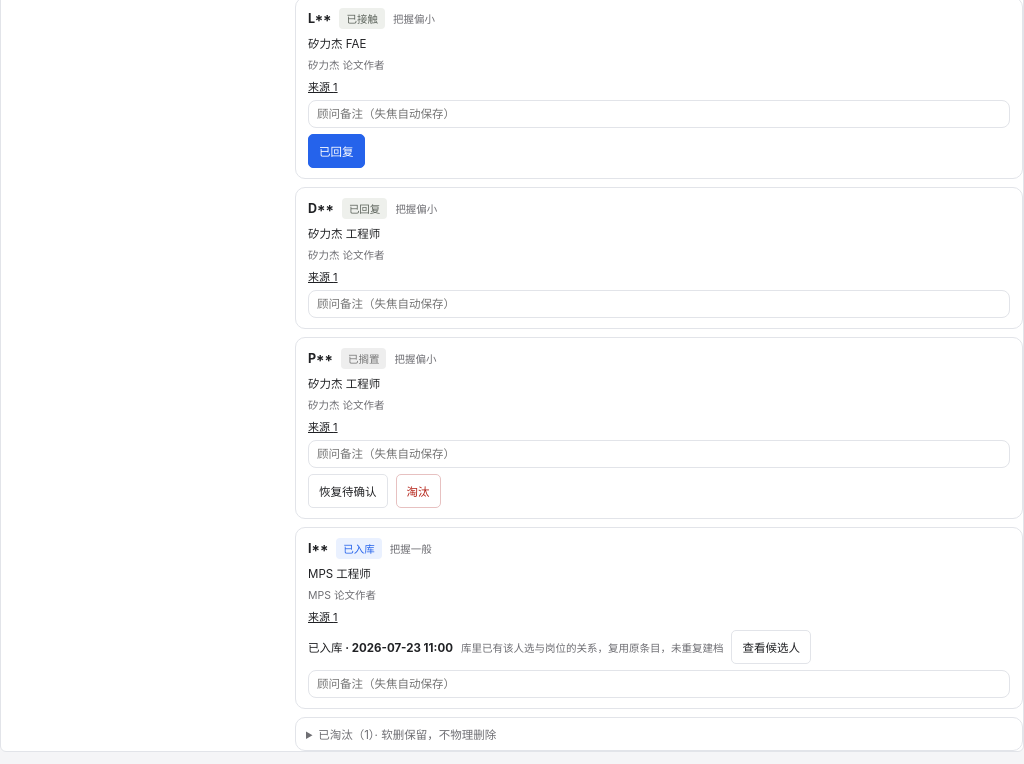
Test: Mapping 任务卡视图（MappingTaskCard） › 已淘汰人选折叠到底部（软删可见，默认收起）
(page scrolled)
expect the text "R**" is not shown: met
Note: 展开后可见且无动作按钮
Click the heading "已淘汰（1）· 软删保留，不物理删除" at (407, 735), box [318,728,496,742]
(page scrolled)
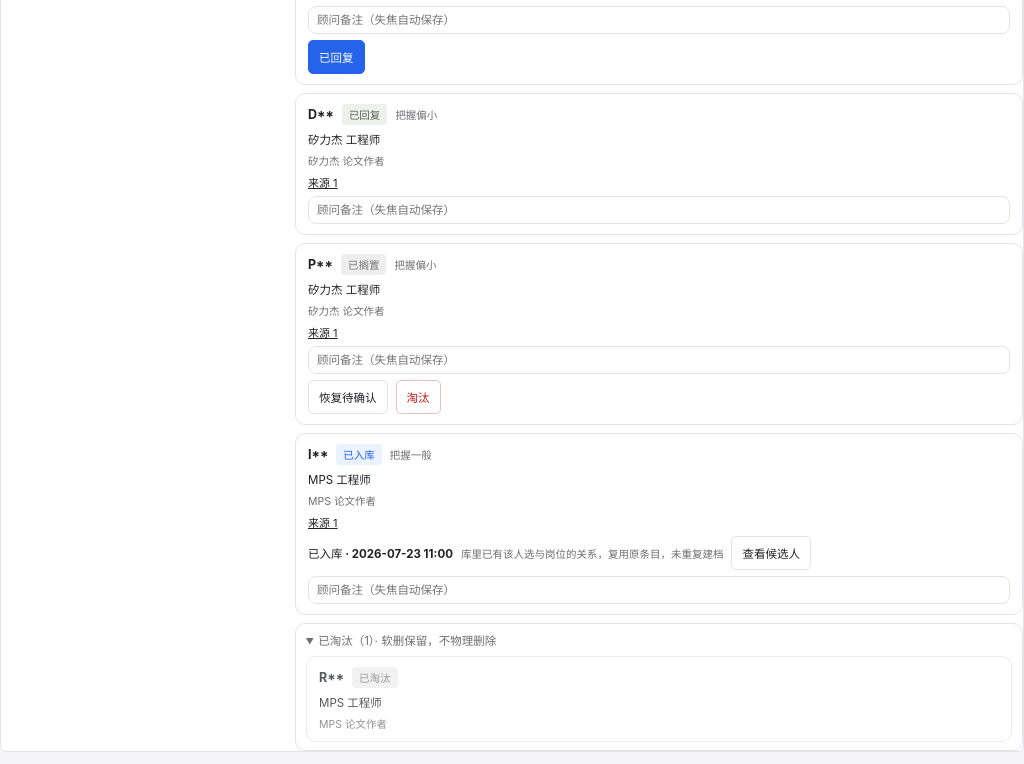
expect the text "R**" is shown: met, box [319,670,344,685]
